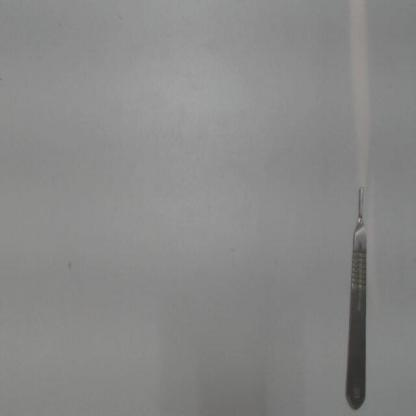No.3 BP Handle: (342, 184, 371, 413)
